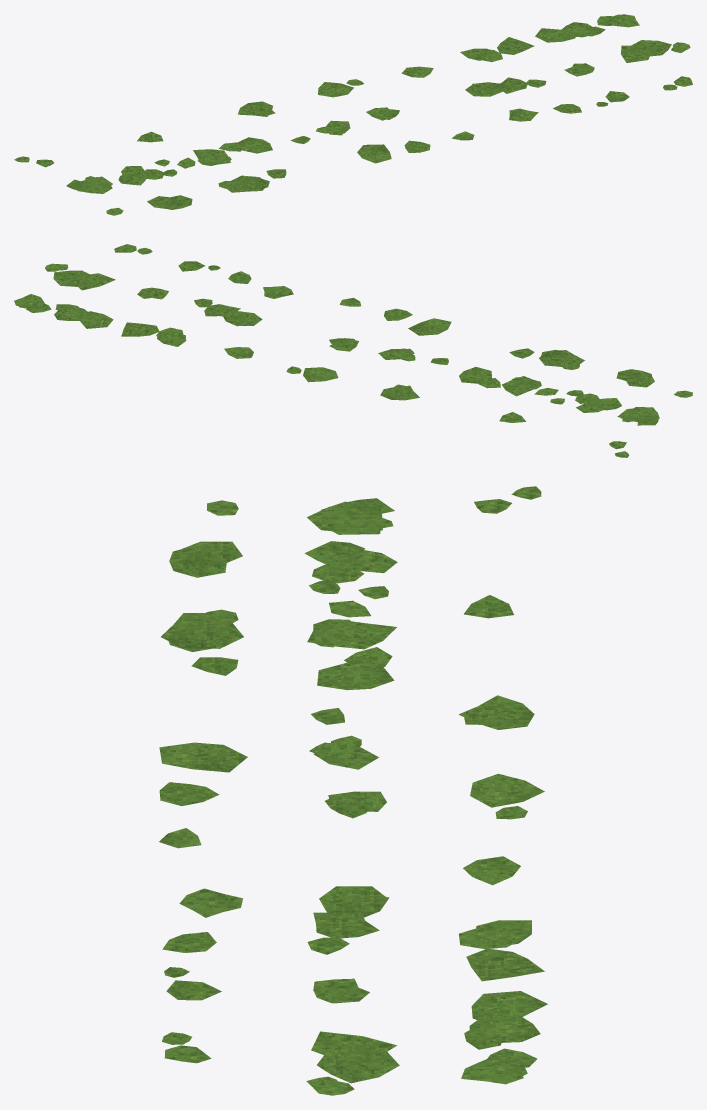
The model's file is kolej_porost_rovna_1.glb.
3 renders of one model, top to bottom at view 1: azimuth 30°, elevation 25°; view 2: azimuth 150°, elevation 25°; view 3: azimuth 270°, elevation 25°, orthographic. The views are drawn at different scales.
Parts seen in each view (by area): view 1: kolej_porost_rovna_1; view 2: kolej_porost_rovna_1; view 3: kolej_porost_rovna_1.
Boxes of the visible parts, x1,y1,x2,y2 form: kolej_porost_rovna_1: (14, 14, 692, 215); kolej_porost_rovna_1: (14, 244, 692, 457); kolej_porost_rovna_1: (159, 486, 547, 1095).
Size of the model in its own units: 14.31 by 0 by 3.87.
1 material, 1 textured.
